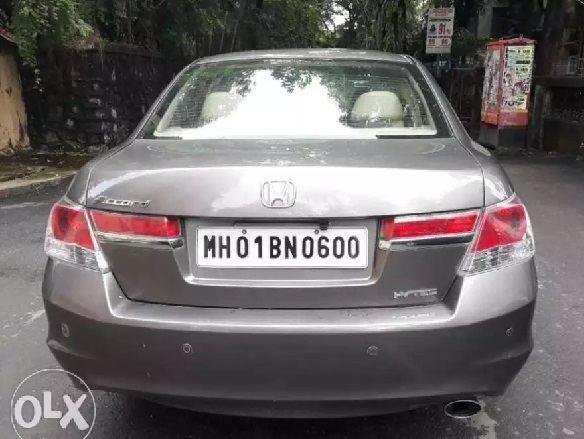licenseplate: (193, 224, 370, 273)
